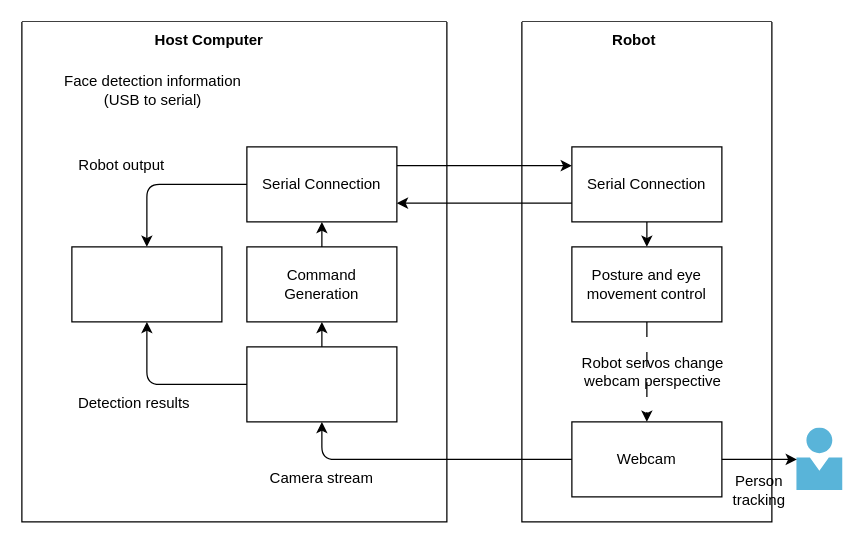
This 865x544 diagram has some shape labels left out. Each missing label, with the centre of its shape:
Face Detection model: (x=321, y=384)
Preview Window: (x=146, y=284)
